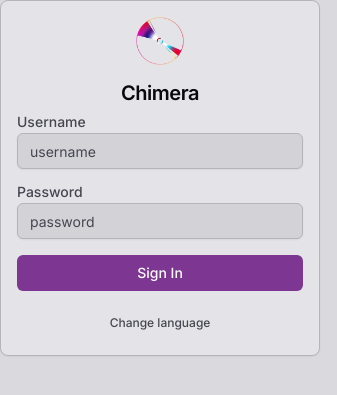
the language picker stays collapsed until Change language is clicked, which must not submit the form
Click the button "Change language" at (160, 323), box [98,307,222,339]
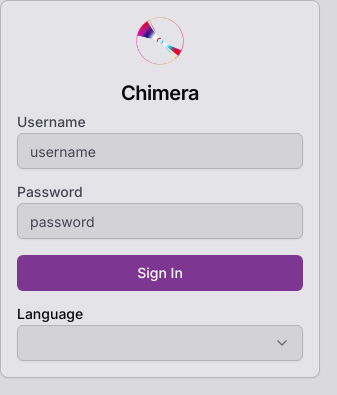
Check: the dropdown is shown, box [17,325,303,361]
